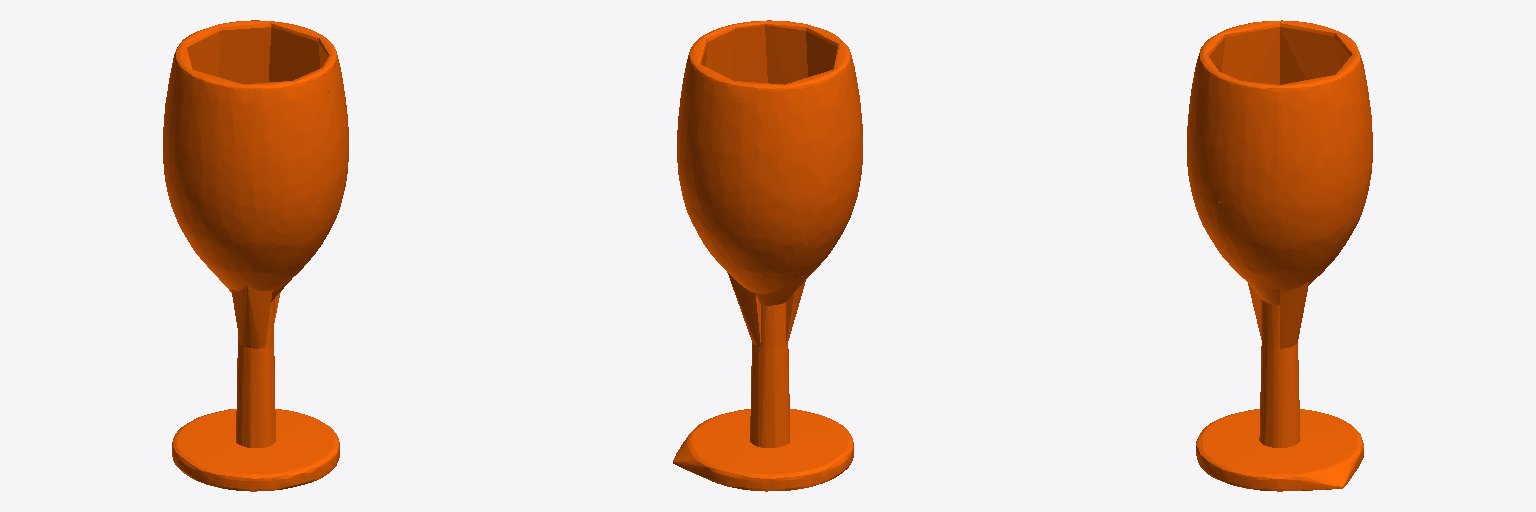
URDF robot description (design):
<?xml version="1.0"?>
<robot name="design">
  <material name="obj_color">
      <color rgba="1.0 0.423529411765 0.0392156862745 1.0"/>
  </material>
  <link name="base">
    <visual>
      <origin xyz="0.0 0.0 0.0"/>
      <geometry>
        <mesh filename="wineglass.obj" scale="1 1 1"/>
      </geometry>
      <material name="obj_color"/>
    </visual>
    <collision>
      <origin xyz="0.0 0.0 0.0"/>
      <geometry>
        <mesh filename="wineglass.obj" scale="1 1 1"/>
      </geometry>
    </collision>
  </link>
</robot>

--- Render facts (derived) ---
Views: 3 orthographic renders of the robot side by side, from view 1: azimuth 30°, elevation 25°; view 2: azimuth 150°, elevation 25°; view 3: azimuth 270°, elevation 25°.
Model design with 1 links and 0 joints (none), rooted at base, posed every joint at zero.
Visible links, largest first — view 1: base; view 2: base; view 3: base.
Link boxes in pixels (x1,y1,x2,y2): base: (163,20,348,491); base: (673,20,862,491); base: (1187,20,1372,491).
Bounding box of the posed robot: 0.0725 × 0.0725 × 0.1738 m (x, y, z).
1 mesh visuals loaded from 1 distinct referenced files (1 OBJ).